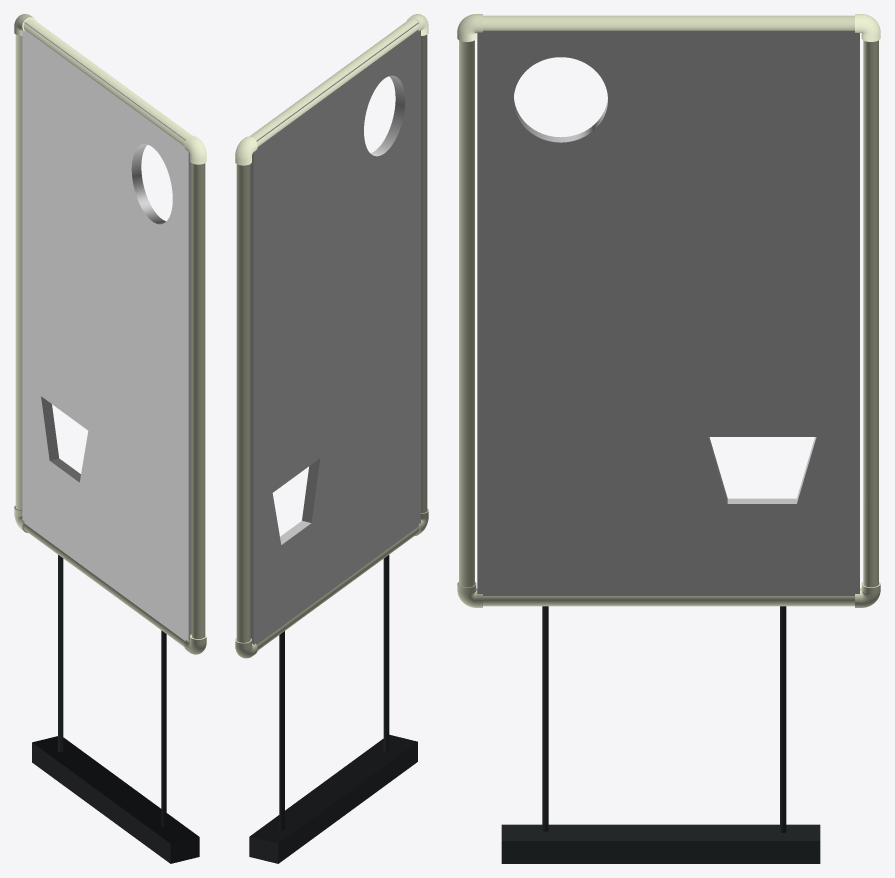
File: board_bootlegger.dae
3 renders of one model, left to right at view 1: azimuth 30°, elevation 25°; view 2: azimuth 150°, elevation 25°; view 3: azimuth 270°, elevation 25°, orthographic. The views are drawn at different scales.
Parts seen in each view (by area): view 1: back, ballast_box, vert_right, vert_left, horiz_top, mesh35.003, right_pole, left_pole, horiz_bottom, mesh29.003, mesh38.003, top_right; view 2: back, ballast_box, vert_left, vert_right, horiz_top, mesh33.003, left_pole, right_pole, horiz_bottom, mesh29.003, mesh36.003, top_left; view 3: front, ballast_box, vert_left, vert_right, horiz_top, horiz_bottom, right_pole, left_pole.
Boxes of the visible parts, x1=… form: back: x1=22, y1=22, x2=188, y2=641; ballast_box: x1=32, y1=736, x2=199, y2=863; vert_right: x1=191, y1=163, x2=205, y2=638; vert_left: x1=15, y1=34, x2=22, y2=510; horiz_top: x1=23, y1=18, x2=192, y2=145; mesh35.003: x1=188, y1=152, x2=191, y2=640; right_pole: x1=58, y1=555, x2=63, y2=752; left_pole: x1=161, y1=630, x2=166, y2=827; horiz_bottom: x1=23, y1=523, x2=184, y2=646; mesh29.003: x1=131, y1=144, x2=165, y2=224; mesh38.003: x1=41, y1=396, x2=58, y2=460; top_right: x1=184, y1=135, x2=206, y2=164; back: x1=253, y1=22, x2=420, y2=644; ballast_box: x1=249, y1=734, x2=417, y2=863; vert_left: x1=236, y1=164, x2=250, y2=642; vert_right: x1=421, y1=35, x2=427, y2=513; horiz_top: x1=249, y1=18, x2=419, y2=146; mesh33.003: x1=250, y1=152, x2=253, y2=644; left_pole: x1=383, y1=555, x2=389, y2=752; right_pole: x1=279, y1=631, x2=284, y2=829; horiz_bottom: x1=257, y1=526, x2=419, y2=650; mesh29.003: x1=371, y1=75, x2=405, y2=156; mesh36.003: x1=302, y1=458, x2=320, y2=522; top_left: x1=235, y1=136, x2=257, y2=165; front: x1=477, y1=31, x2=859, y2=595; ballast_box: x1=501, y1=824, x2=820, y2=863; vert_left: x1=863, y1=40, x2=878, y2=587; vert_right: x1=459, y1=40, x2=474, y2=587; horiz_top: x1=483, y1=15, x2=854, y2=30; horiz_bottom: x1=483, y1=596, x2=854, y2=606; right_pole: x1=780, y1=606, x2=786, y2=832; left_pole: x1=542, y1=606, x2=548, y2=831.
Size of the model in its own units: 0.0762 by 0.8434 by 1.85.
